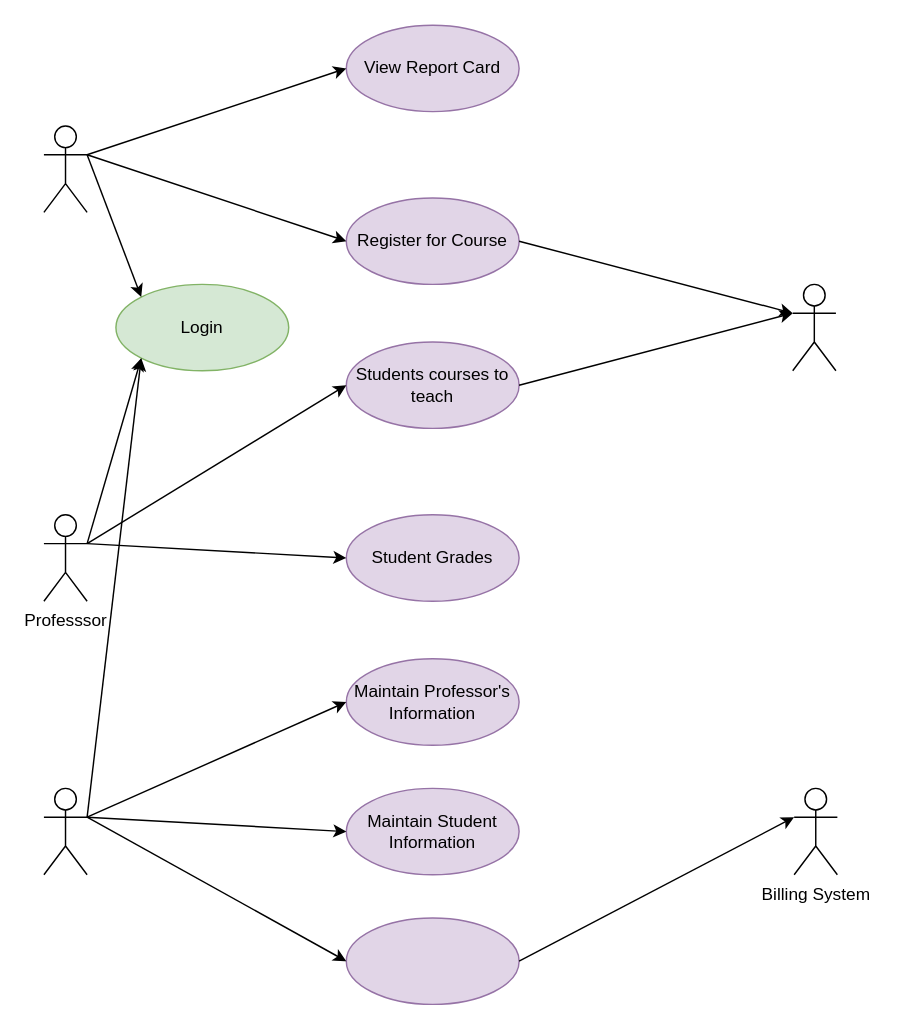
The diagram is 909 pixels wide and 1030 high, and some of its shapes have lost their labels. Each missing label, with the centre of its shape:
"Admin" goes at point 64,831.
"Course Catalogue" goes at point 813,327.
"Course Registration" goes at point 432,960.
"student" goes at point 64,168.
